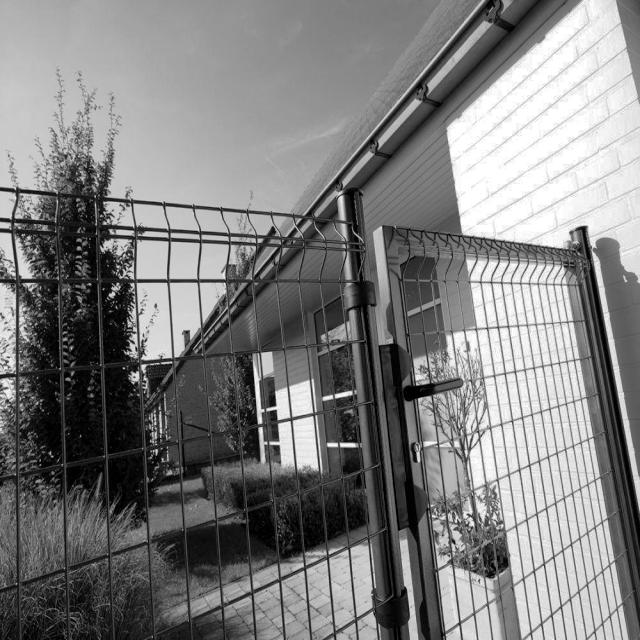fences: (3, 189, 633, 640)
